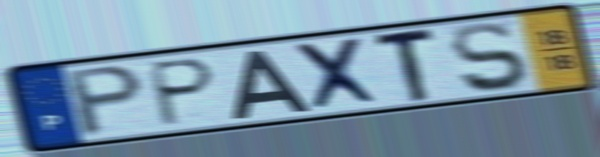A: (229, 48, 314, 122)
P: (64, 62, 147, 140), (148, 55, 220, 130)
S: (447, 19, 532, 95)
T: (372, 24, 439, 105)
X: (289, 35, 388, 114)
